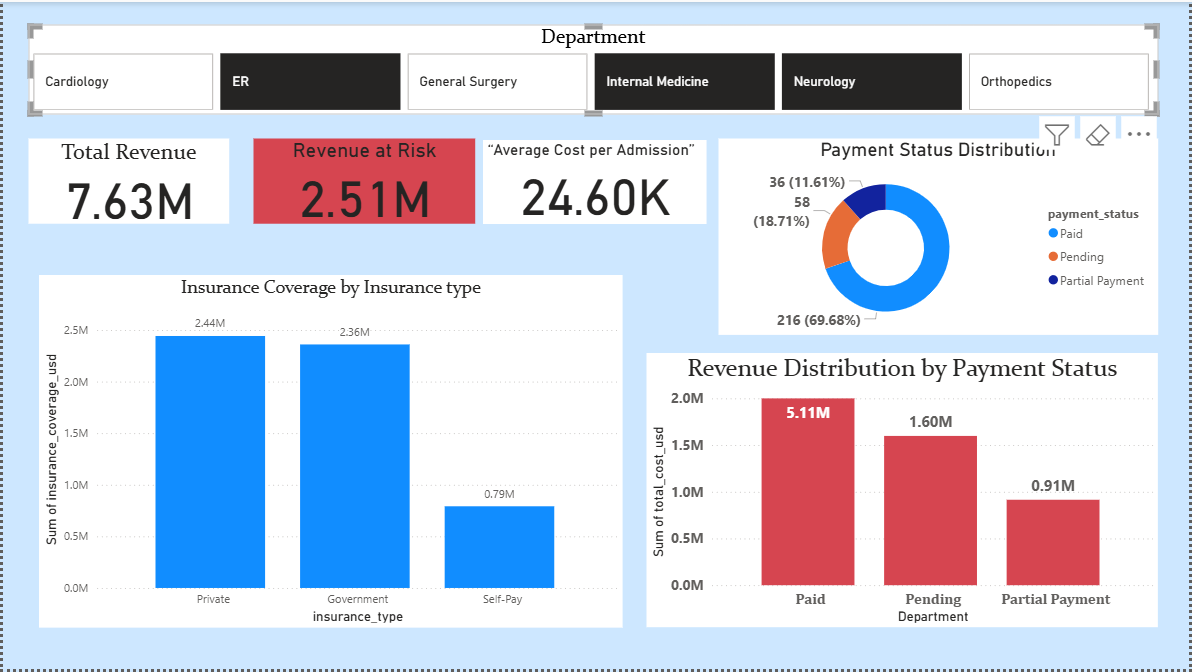

This screenshot's page, from the dashboard's own definition file:
{"tool":"powerbi","page":{"name":"Financial & Insurance Risk","canvas":[1280,720],"ordinal":1},"visuals":[{"type":"clusteredColumnChart","title":"Revenue  Distribution by  Payment Status","fields":{"Y":["Sum(public billing.total_cost_usd)"],"Category":["public billing.payment_status"]},"box":[694.6,378.9,552.2,296.3],"z":0},{"type":"advancedSlicerVisual","title":"Department","fields":{"Values":["public admissions.department"]},"box":[27.5,24.3,1219.3,97.2],"z":1000},{"type":"card","title":"“Average Cost per Admission”","fields":{"Values":["Avg(public billing.total_cost_usd)"]},"box":[518.2,149,241.3,90.7],"z":2000},{"type":"card","title":"Revenue at Risk","fields":{"Values":["Sum(public billing.total_cost_usd)"]},"box":[270.4,147.3,239.6,92.3],"z":3000},{"type":"card","title":"Total Revenue","fields":{"Values":["Sum(public billing.total_cost_usd)"]},"box":[27.5,147.3,217,92.3],"z":4000},{"type":"donutChart","title":"Payment Status Distribution","fields":{"Category":["public billing.payment_status"],"Y":["CountNonNull(public billing.total_cost_usd)"]},"box":[772.4,147.3,474.4,212.1],"z":5000},{"type":"clusteredColumnChart","title":"Insurance Coverage by  Insurance type","fields":{"Y":["Sum(public billing.insurance_coverage_usd)"],"Category":["public patients.insurance_type"]},"box":[38.9,294.7,629.9,380.5],"z":6000}]}

Visuals, with their boxes in screenshot pixels (x1, y1, x2, y2), scaled from the page's 1280x720 canvas onto the 1192x672 screenshot:
"Revenue  Distribution by  Payment Status" clusteredColumnChart: 647/354/1161/630
"Department" advancedSlicerVisual: 26/23/1161/113
"“Average Cost per Admission”" card: 483/139/707/224
"Revenue at Risk" card: 252/137/475/224
"Total Revenue" card: 26/137/228/224
"Payment Status Distribution" donutChart: 719/137/1161/335
"Insurance Coverage by  Insurance type" clusteredColumnChart: 36/275/623/630
